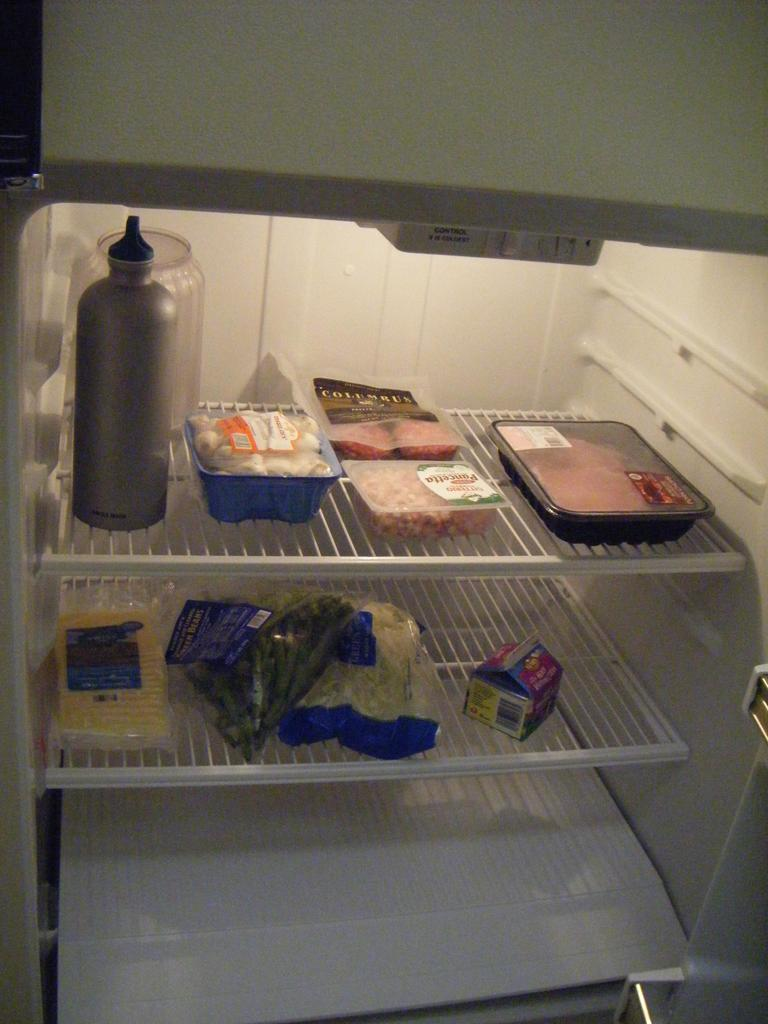refrigerator door: (35, 4, 768, 158)
